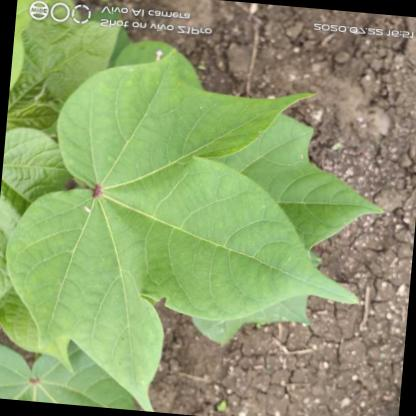cotton: (7, 55, 394, 416)
